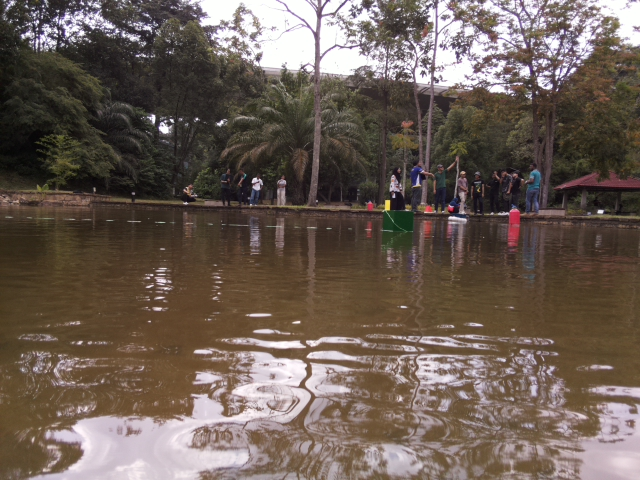obstacle: (381, 209, 416, 235)
